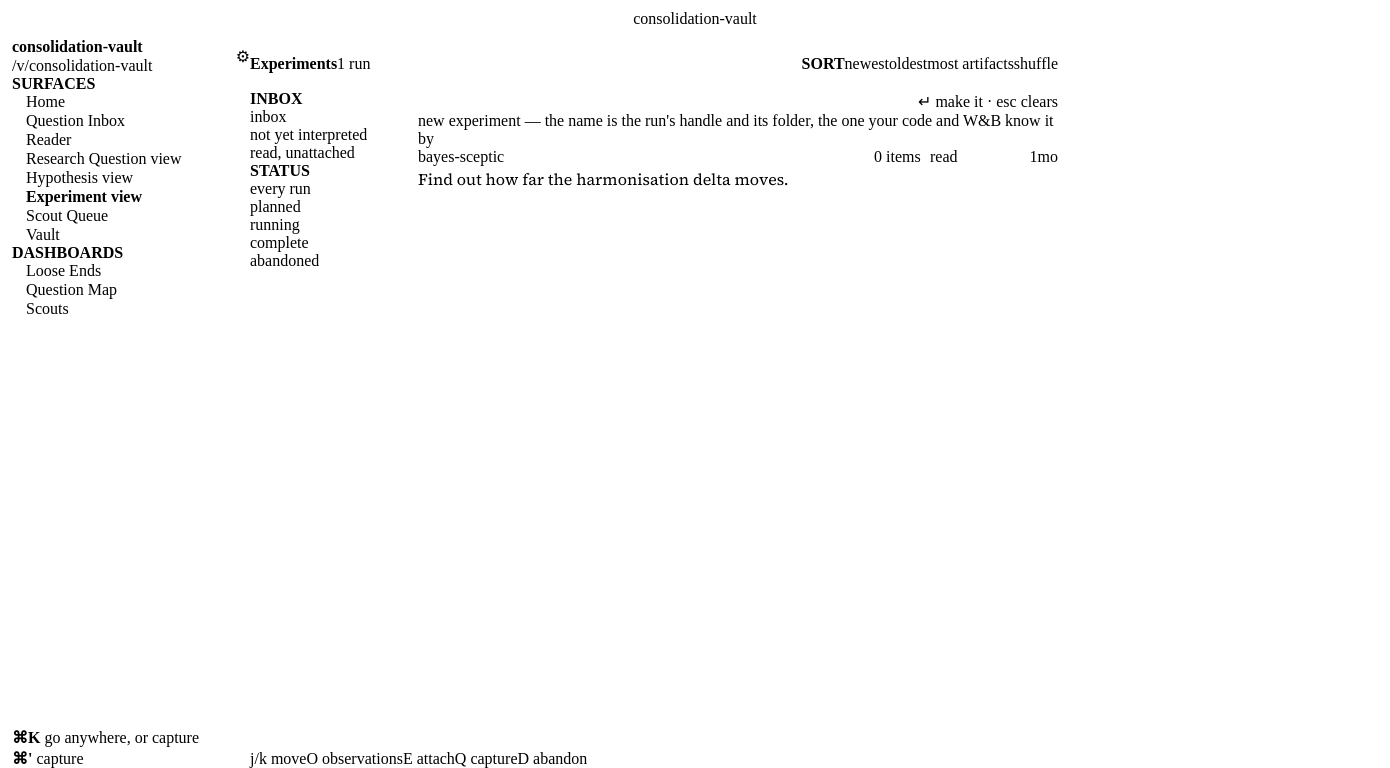
Q in the Experiment Inbox › offers the capture in the detail pane and the key hints too
Press j in the list named "Experiments", box [418,148,1058,190]
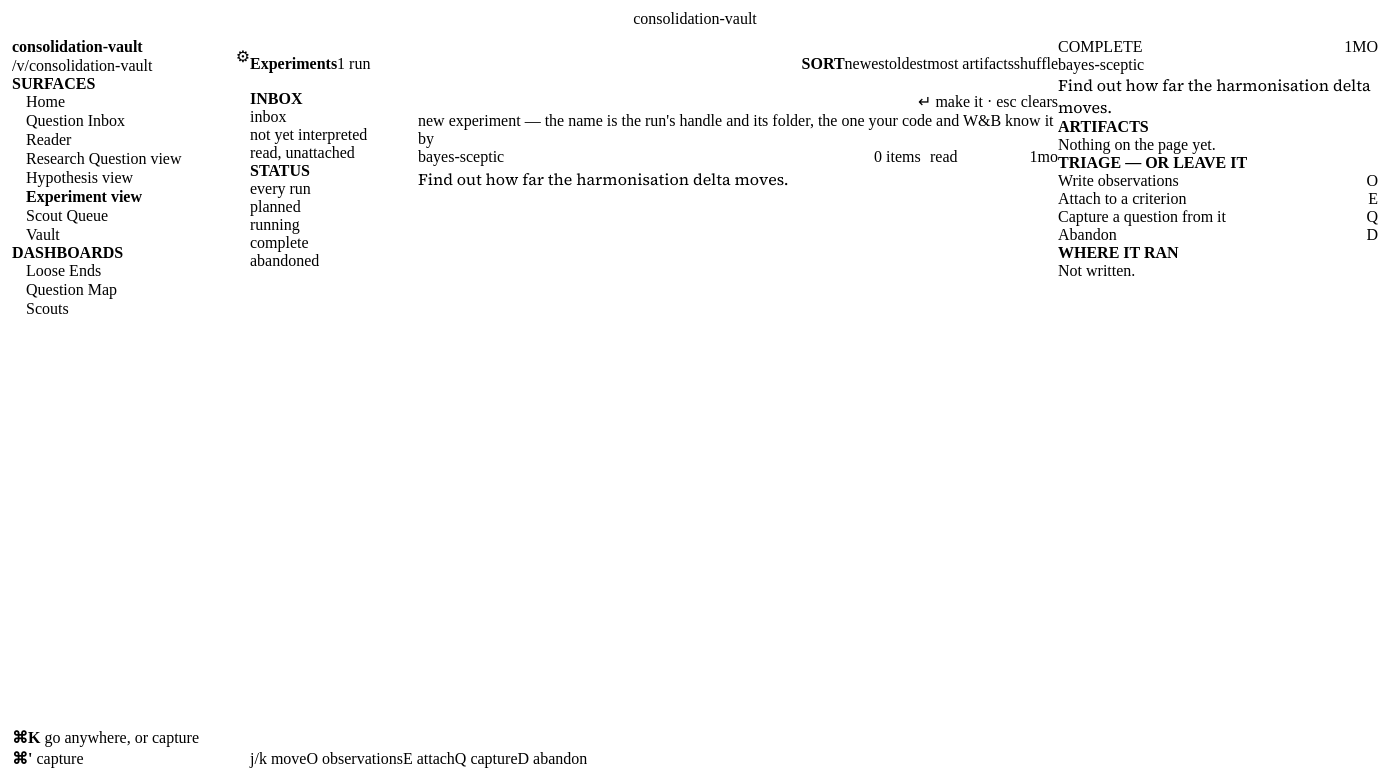
Click the button "Capture a question from it Q" at (1218, 217), box [1058,208,1378,226]
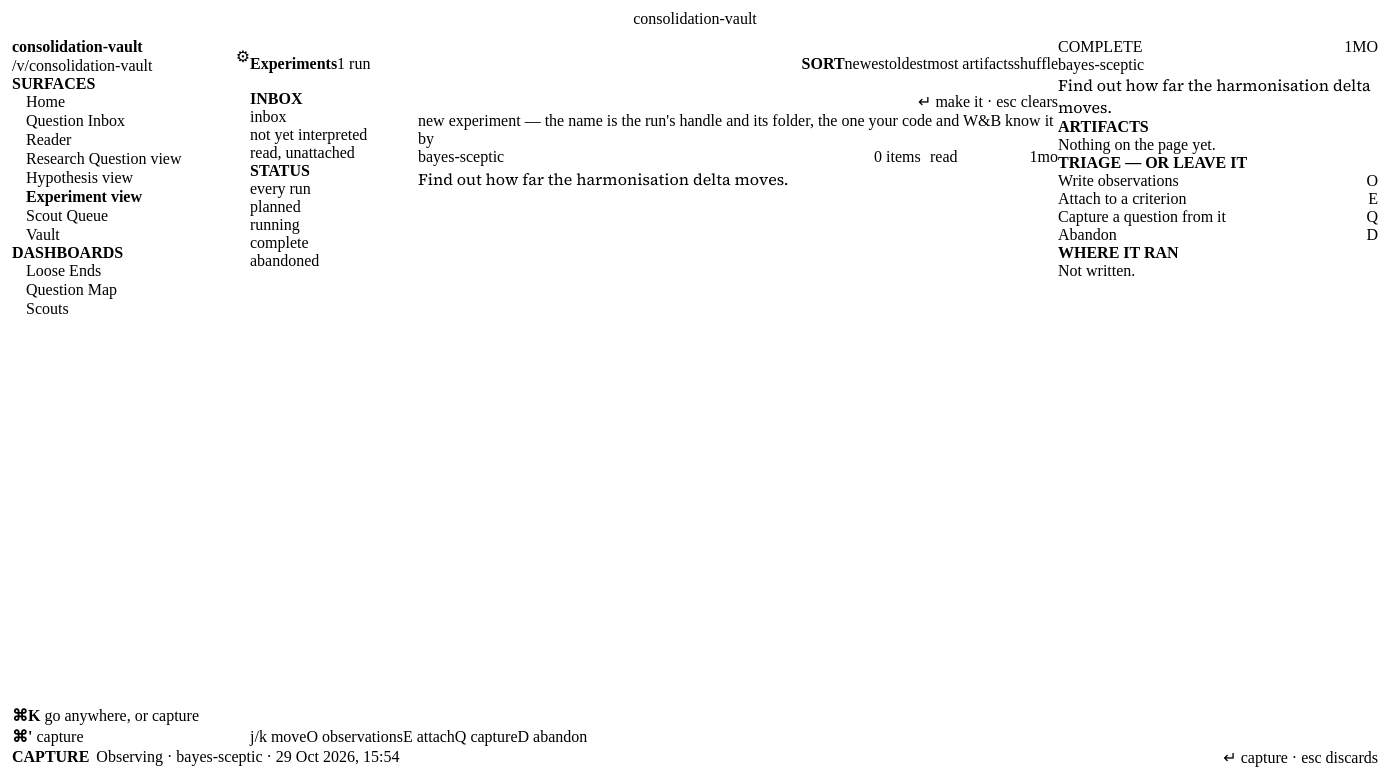
Expected: the element "Experiments" shows "Q capture", [455,728,517,745]
Now the form "Capture" shows "Observing · bayes-sceptic", box [96,748,399,765]
